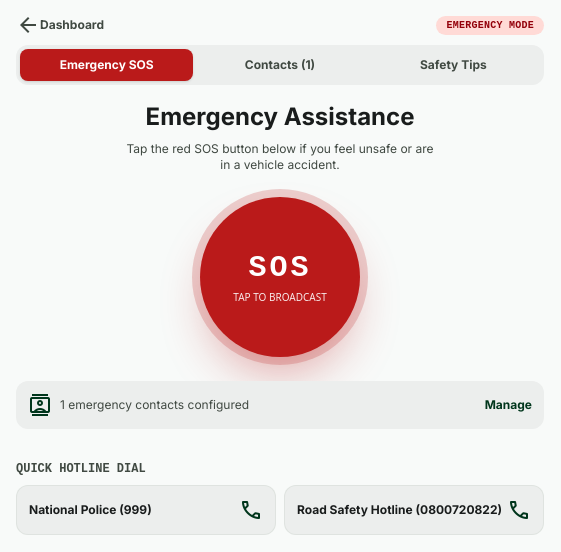
Test: DATA-002: Emergency SOS Contacts Real Data & Zero Hardcoded Fake Profiles › DATA-003: Emergency SOS Truth-in-Reporting & Zero Fabricated Authority Claims › honestly renders failed delivery states when backend reports failed channels
The image size is (561, 552).
Click the button "SOS Tap to Broadcast". click: (280, 277)
box: [200, 197, 360, 357]
Wait 4000 ms
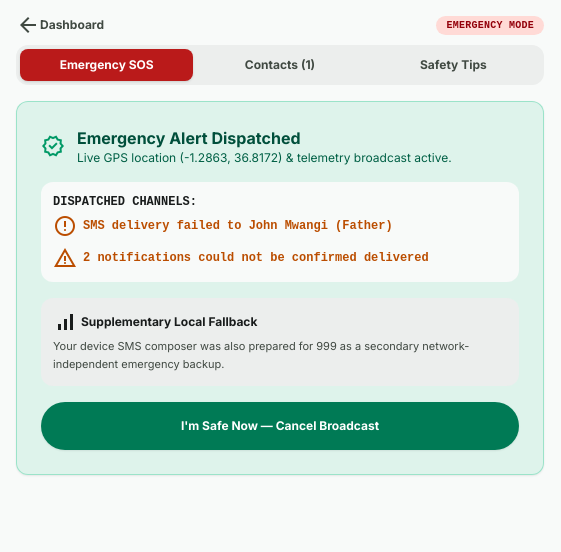
Expected: the element with test id "dispatched-channels-list" shows "SMS delivery failed to John Mwangi (Father)", [83, 219, 393, 233]
Expected: the element with test id "dispatched-channels-list" shows "2 notifications could not be confirmed delivered", [41, 182, 519, 282]
